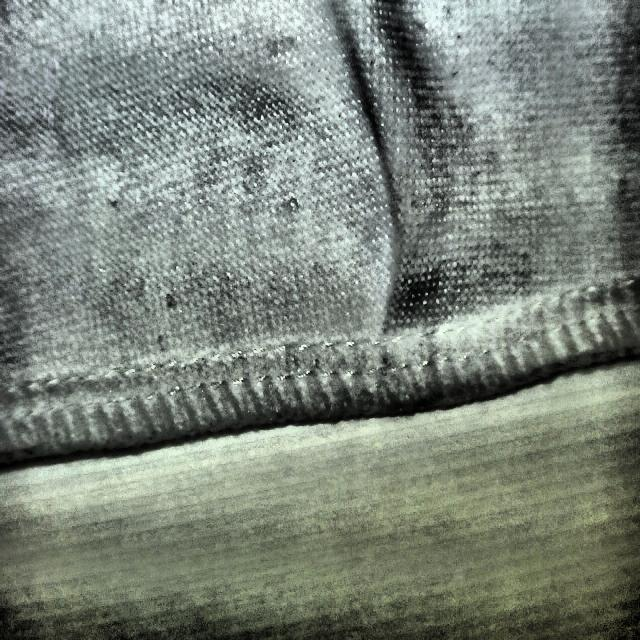seam: (334, 117, 488, 419)
